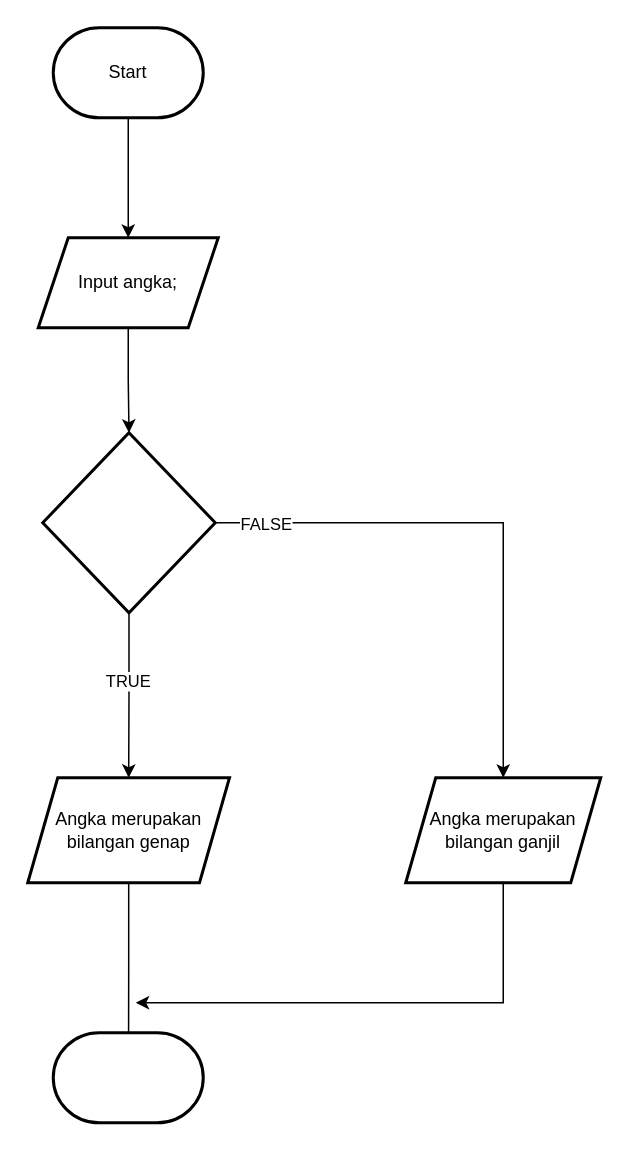
Some shapes in this 627 by 1149 pixel diagram are drawn without their labels. The shapes that lost their labels are listed below. From the top down, each one's box as (x1, y1, x2, y2) in pixels, then its label:
(40, 430, 216, 614): if angka % 2 == 0
(51, 1030, 204, 1124): END
